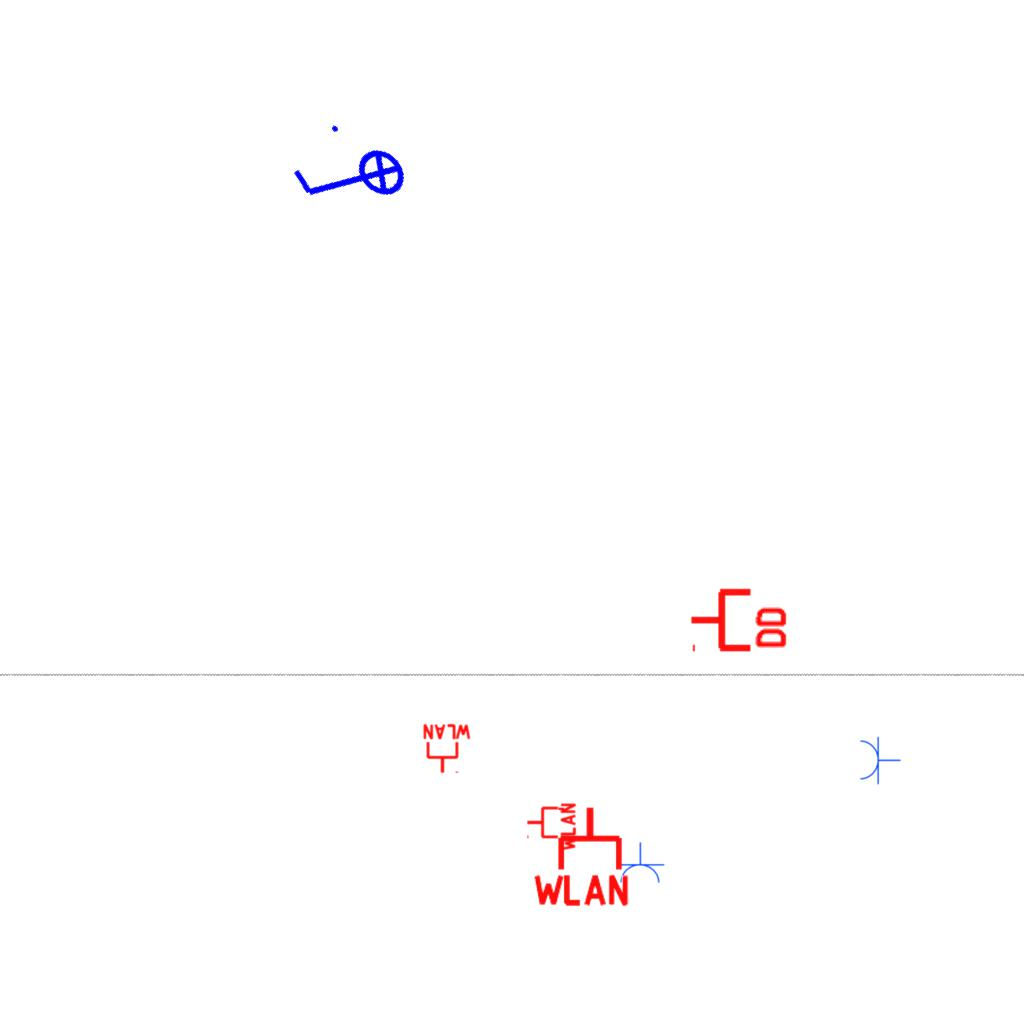Ausschalter_beleuchtet: (277, 106, 425, 254)
Datenanschluss_zweifach: (688, 584, 791, 653)
Schukosteckdose_einfach: (615, 842, 665, 885), (858, 735, 901, 785)
WLAN: (529, 803, 633, 908), (421, 723, 473, 775), (525, 801, 577, 853)
